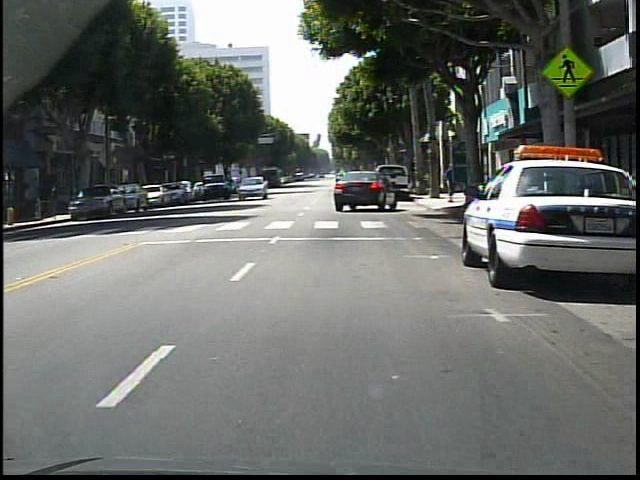person: (439, 160, 461, 209)
